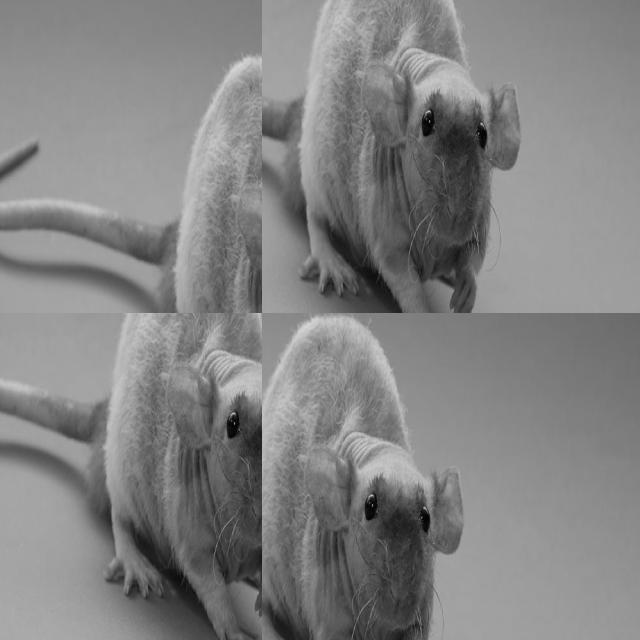rat: (262, 313, 468, 640), (196, 371, 262, 469)
